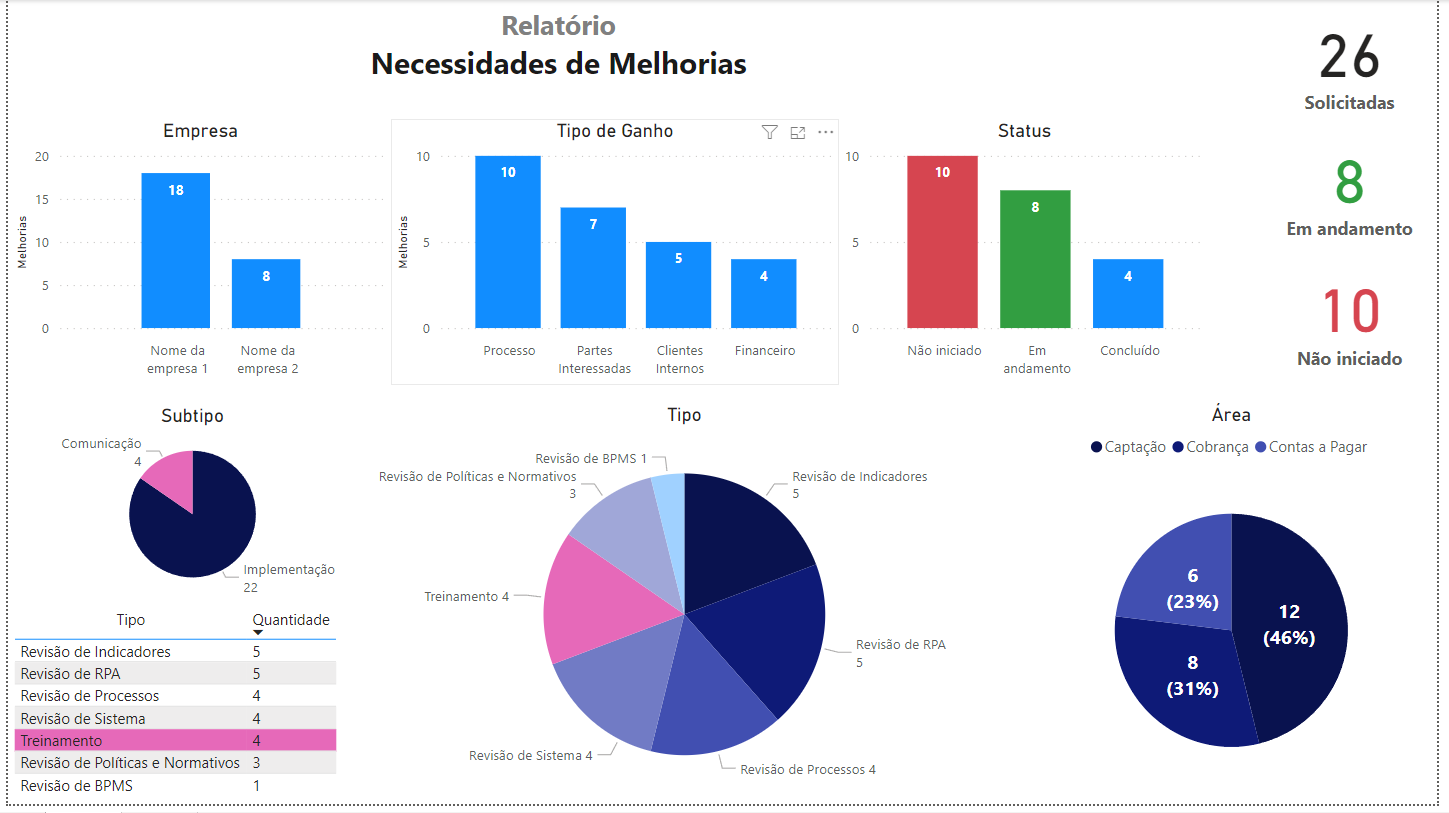

What the dashboard file says about the page in this screenshot:
{"tool":"powerbi","page":{"name":"Page 1","canvas":[1280,720],"ordinal":0},"visuals":[{"type":"card","title":"Melhorias Solicitas","fields":{"Values":["Backlog.Total de Melhorias"]},"box":[1123,0,156.7,106.6],"z":0},{"type":"columnChart","title":"Empresa","fields":{"Category":["Backlog.Empresa"],"Y":["Backlog.Melhorias por Empresa"]},"box":[1.8,106.6,341.2,238.2],"z":1000},{"type":"card","title":"Melhorias Solicitas","fields":{"Values":["Backlog.Melhorias Solicitadas"]},"box":[1123,106.6,156.7,119.1],"z":2000},{"type":"card","title":"Melhorias Solicitas","fields":{"Values":["Backlog.Melhorias Solicitadas"]},"box":[1123,225.7,156.7,112.8],"z":3000},{"type":"pieChart","title":"Área","fields":{"Category":["Backlog.Área"],"Y":["CountNonNull(Backlog.Área)"]},"box":[910.4,360.5,369.6,359.5],"z":4000},{"type":"columnChart","title":"Status","fields":{"Category":["Backlog.Status"],"Y":["Backlog.Melhorias por Status"]},"box":[744.2,106.6,332.2,238.2],"z":5000},{"type":"columnChart","title":"Tipo de Ganho","fields":{"Category":["Backlog.Tipo de ganho"],"Y":["Backlog.Melhorias por Tipo de Ganho"]},"box":[343,106.6,401.2,238.2],"z":6000},{"type":"pieChart","title":"Subtipo","fields":{"Category":["Backlog.Tipo de Melhoria 2"],"Y":["CountNonNull(Backlog.Tipo de Melhoria 2)"]},"box":[29.4,361.5,271.4,178.2],"z":7000},{"type":"textbox","box":[0,0,986,85.1],"z":8000},{"type":"pieChart","title":"Tipo","fields":{"Category":["Backlog.Tipo de Melhoria 3"],"Y":["CountNonNull(Backlog.Tipo de Melhoria 3)"]},"box":[300.8,360.5,609.6,359.5],"z":9000},{"type":"tableEx","fields":{"Values":["Backlog.Tipo de Melhoria 3","CountNonNull(Backlog.Tipo de Melhoria 3)"]},"box":[0,539.7,300.8,180.3],"z":10000}]}

Visuals, with their boxes in screenshot pixels (x1, y1, x2, y2), scaled from the page's 1280x720 canvas onto the 1449x813 screenshot:
"Melhorias Solicitas" card: (1271,0,1448,120)
"Empresa" columnChart: (2,120,388,389)
"Melhorias Solicitas" card: (1271,120,1448,255)
"Melhorias Solicitas" card: (1271,255,1448,382)
"Área" pieChart: (1031,407,1448,812)
"Status" columnChart: (842,120,1219,389)
"Tipo de Ganho" columnChart: (388,120,842,389)
"Subtipo" pieChart: (33,408,341,609)
textbox: (0,0,1116,96)
"Tipo" pieChart: (341,407,1031,812)
tableEx - Backlog.Tipo de Melhoria 3 x CountNonNull(Backlog.Tipo de Melhoria 3): (0,609,341,812)
